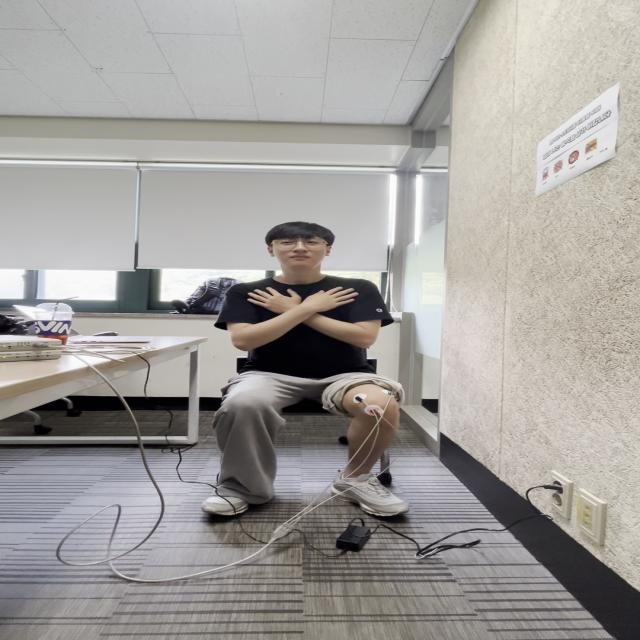squat: (213, 274, 402, 447), (225, 335, 409, 435), (196, 379, 286, 520), (336, 379, 412, 530)
